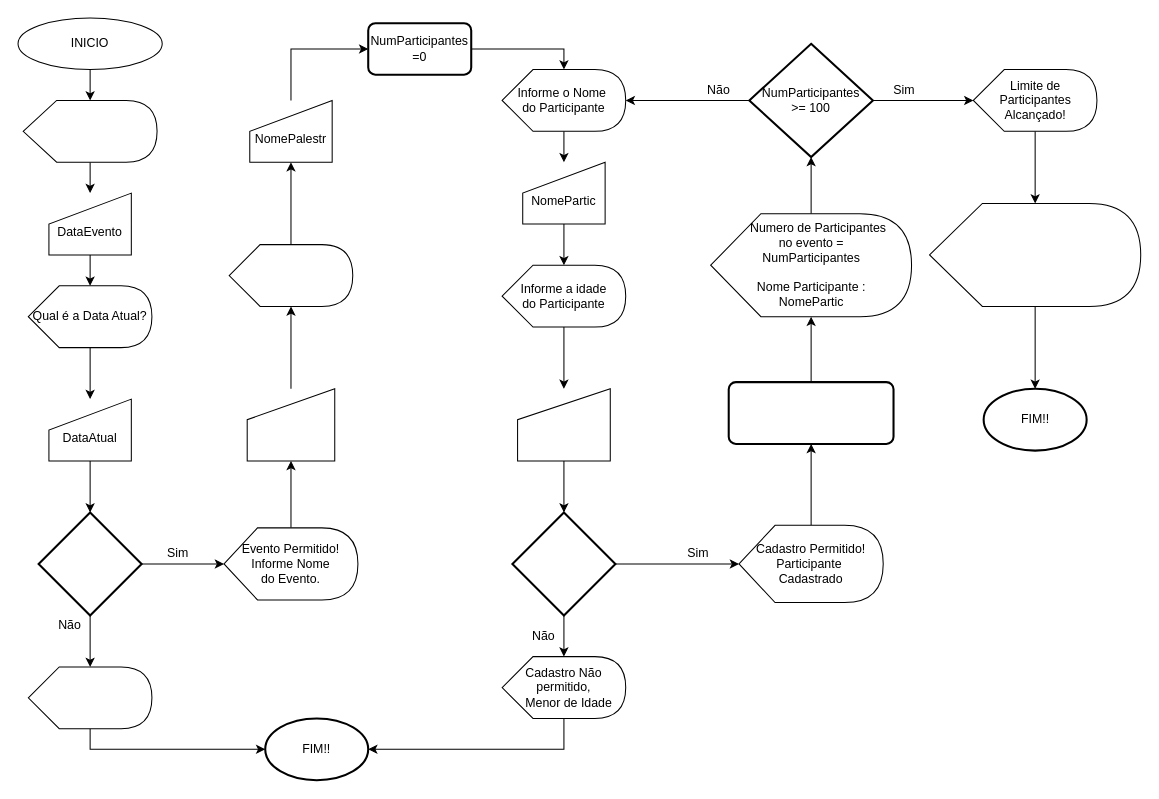
The diagram is 1159 pixels wide and 799 high, and some of its shapes have lost their labels. Each missing label, with the centre of its shape:
DataEvento > DataAtual: point 89,563
Evento Não Permitido, Data Invalida!: point 89,697
EVENTO: NomeEvento PALESTRANTE: NomePalestr: point 1035,254
IdadePartic: point 563,424
IdadePartic >=18: point 563,563
NomeEvento: point 290,424
NomeEvento Informe o Palestrante.: point 290,275
Novo Evento! Qual a Data do Evento?: point 89,130
NumParticipantes = NumParticipantes +1: point 810,412
